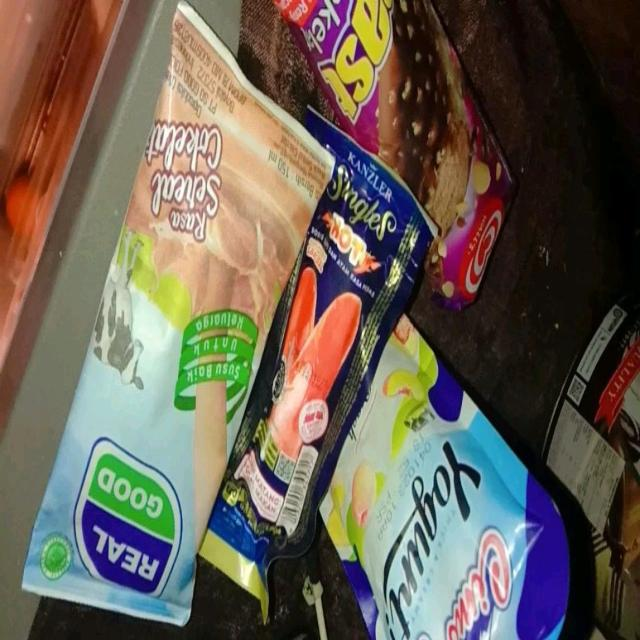KemasanPlastik: (191, 104, 428, 620)
